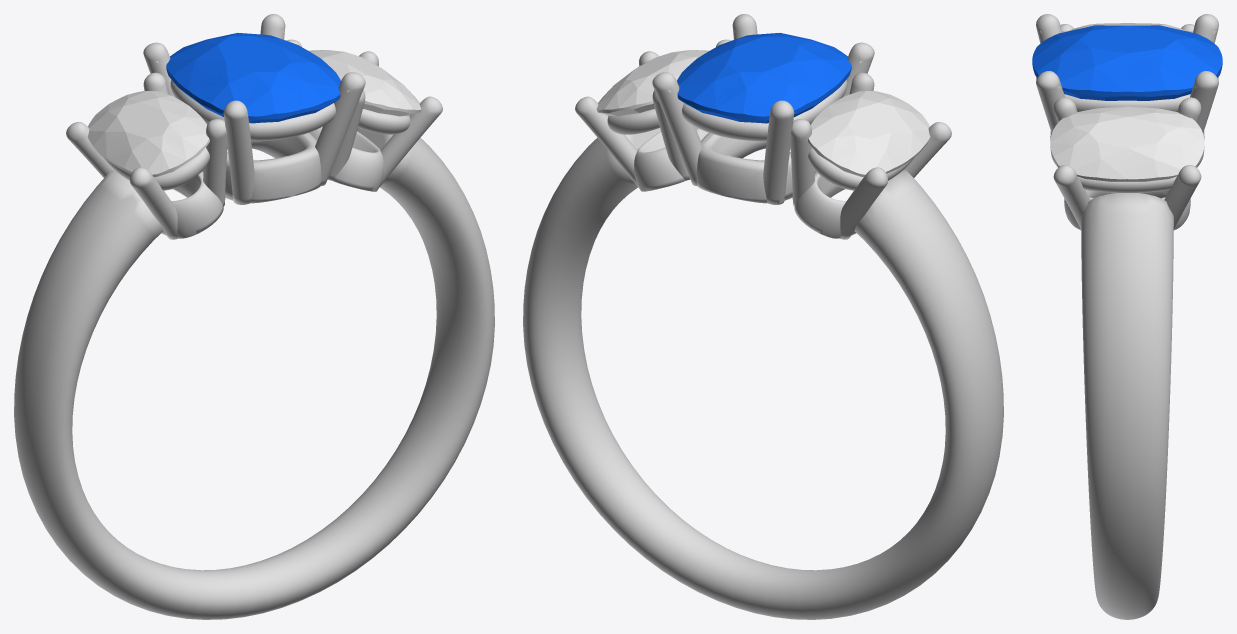
File: bluesapphire-cushion-platinum-4prong-taperedband-3stone.glb
3 renders of one model, left to right at view 1: azimuth 30°, elevation 25°; view 2: azimuth 150°, elevation 25°; view 3: azimuth 270°, elevation 25°, orthographic.
Parts seen in each view (by area): view 1: metal, stone.003, side.006, side.007; view 2: metal, stone.003, side.006, side.007; view 3: metal, stone.003, side.007, side.006.
Part boxes in pixels (left/top/right/bottom): metal: left=14, top=14, right=494, bottom=619; stone.003: left=166, top=33, right=340, bottom=123; side.006: left=87, top=91, right=209, bottom=176; side.007: left=308, top=50, right=421, bottom=116; metal: left=523, top=14, right=1003, bottom=619; stone.003: left=677, top=33, right=851, bottom=123; side.006: left=808, top=91, right=930, bottom=176; side.007: left=596, top=50, right=709, bottom=116; metal: left=1036, top=14, right=1218, bottom=619; stone.003: left=1032, top=25, right=1222, bottom=100; side.007: left=1050, top=106, right=1204, bottom=181; side.006: left=1068, top=23, right=1186, bottom=31.
Bounding box in the file's own units: 20.1 × 23.03 × 7.15.
